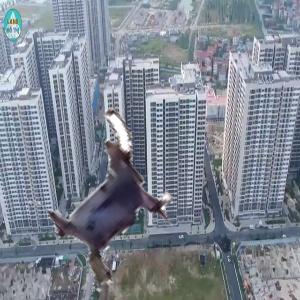drone: (23, 119, 193, 289)
